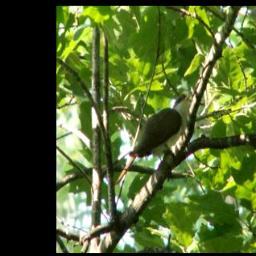Cuckoo: (114, 90, 196, 186)
